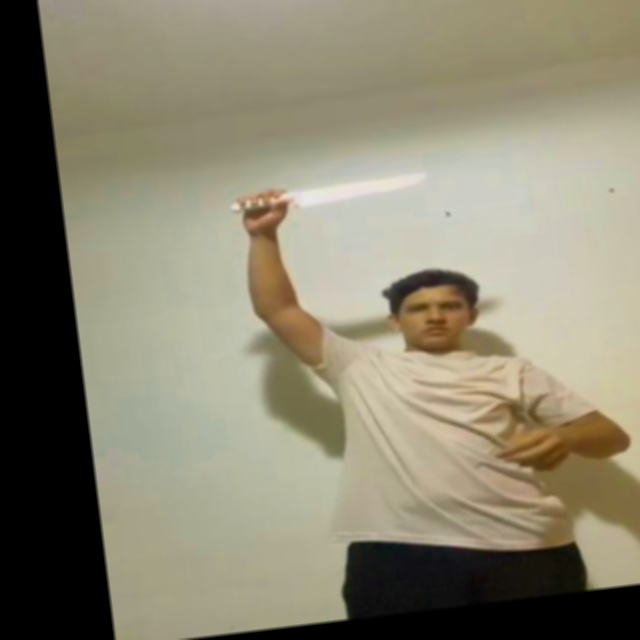Sharp-Object: (294, 168, 432, 205)
